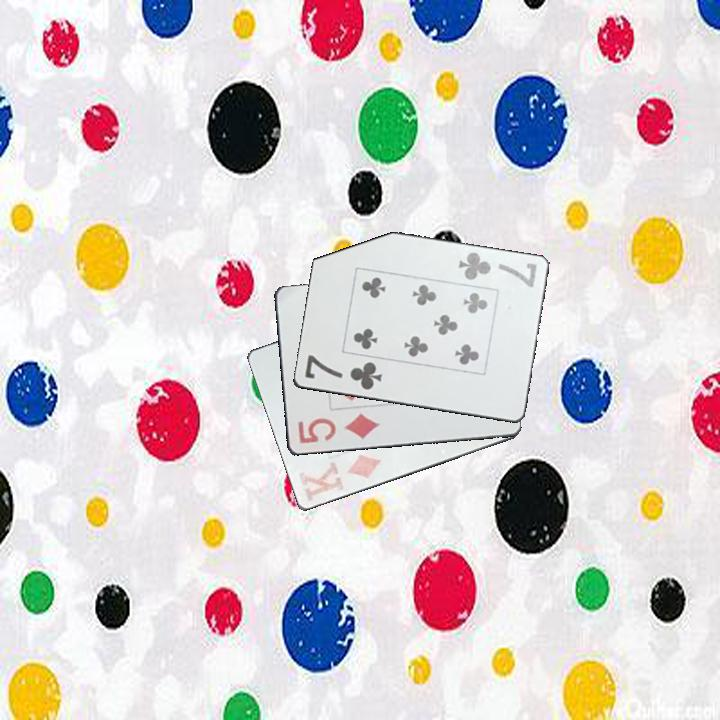5d: (294, 409, 382, 447)
7c: (455, 249, 540, 291), (301, 351, 385, 393)
Kd: (295, 451, 383, 505)
